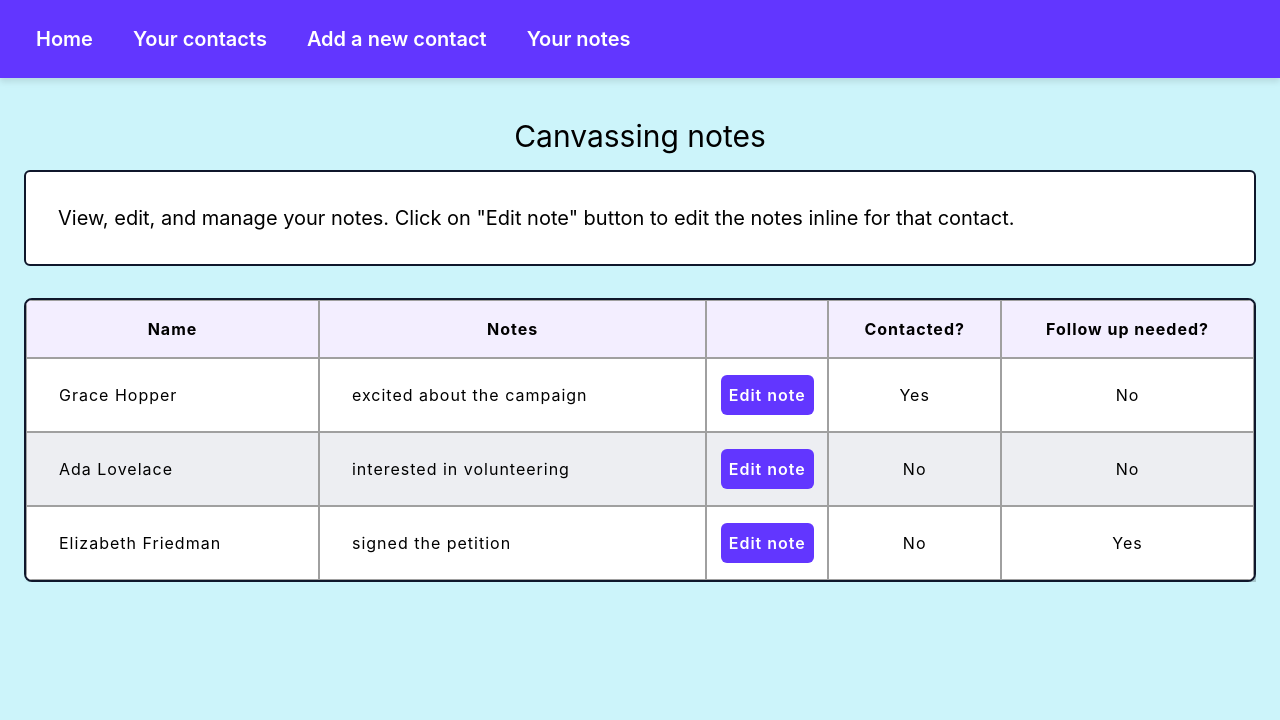
Test: Notes page › 'Save note' button should not be disabled after user changes note content
Click the button with test id "edit-note-button-1".
click(768, 395)  # box [721,375,814,415]
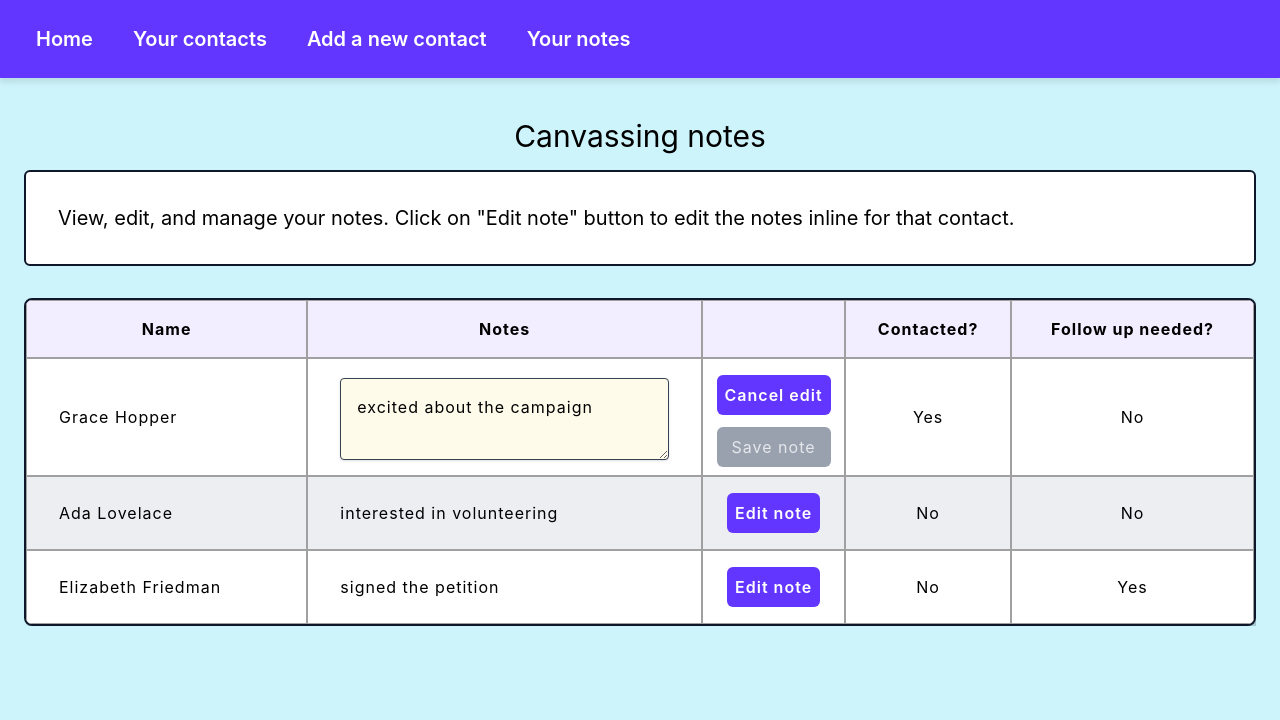
Replace the text in the text box with test id "note-textarea-1" with "Updated note content" at (505, 419), box [340,378,669,460]
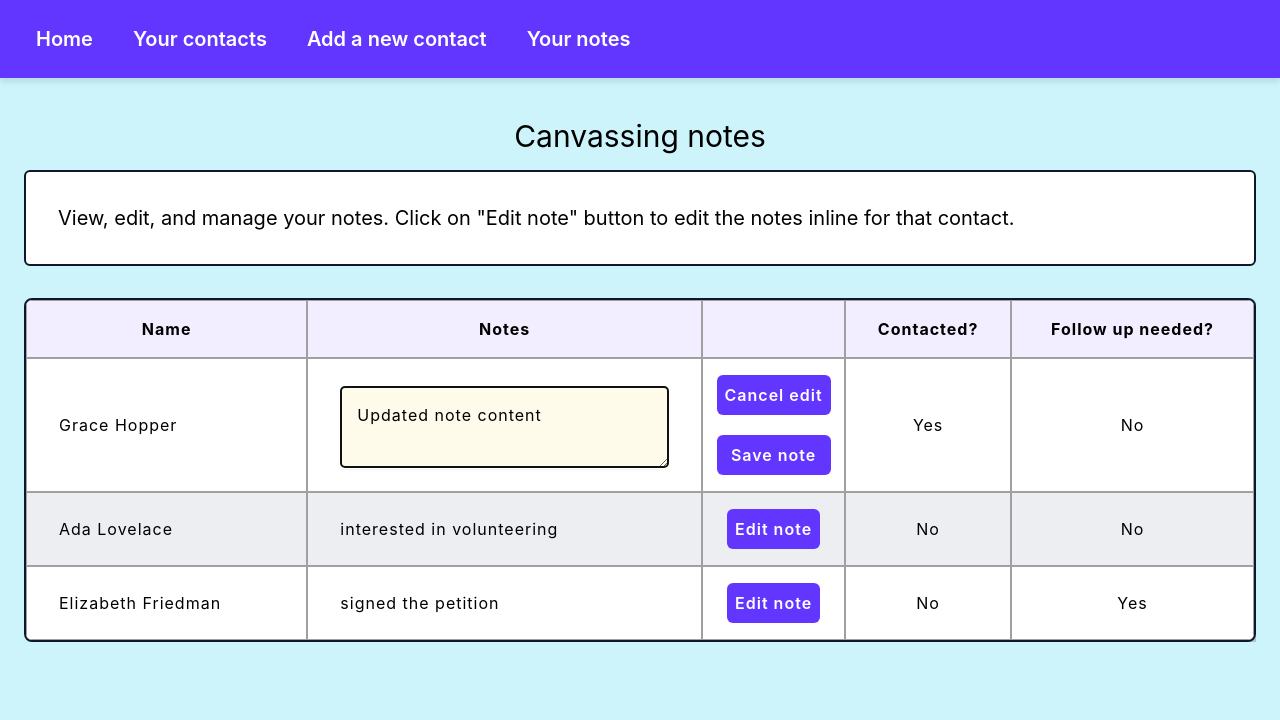
Expected: the element with test id "save-note-button-1" is enabled
Result: the text box with test id "note-textarea-1" holds "Updated note content" at [340,386,669,468]
